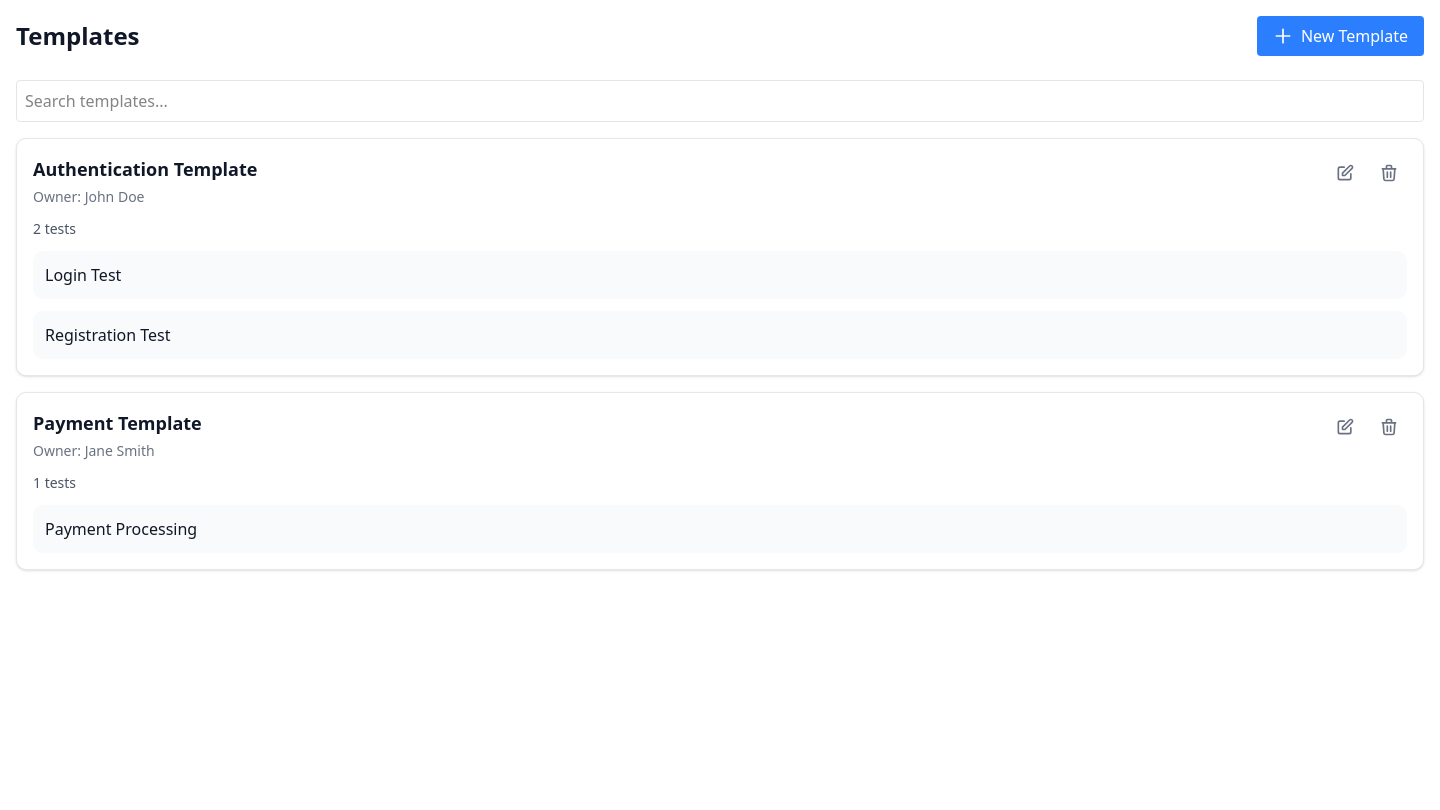
Templates Component › filters templates based on search query
The width and height of the screenshot is (1440, 810).
In the field with placeholder "Search templates...": (720, 101) [16,80,1424,122], type "auth"
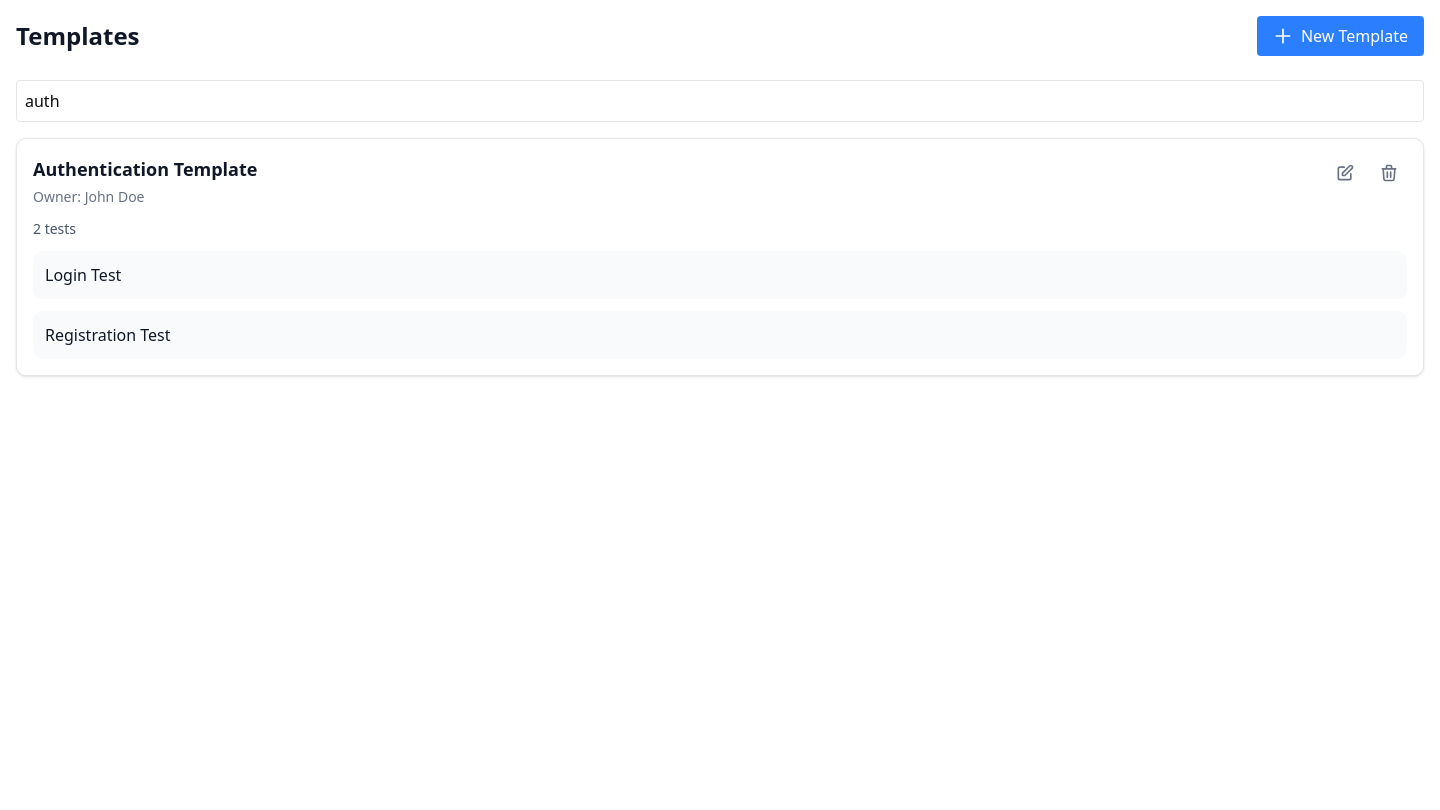
Expected: the heading "Authentication Template" is shown, [33,157,257,181]
Now the heading "Payment Template" is gone
